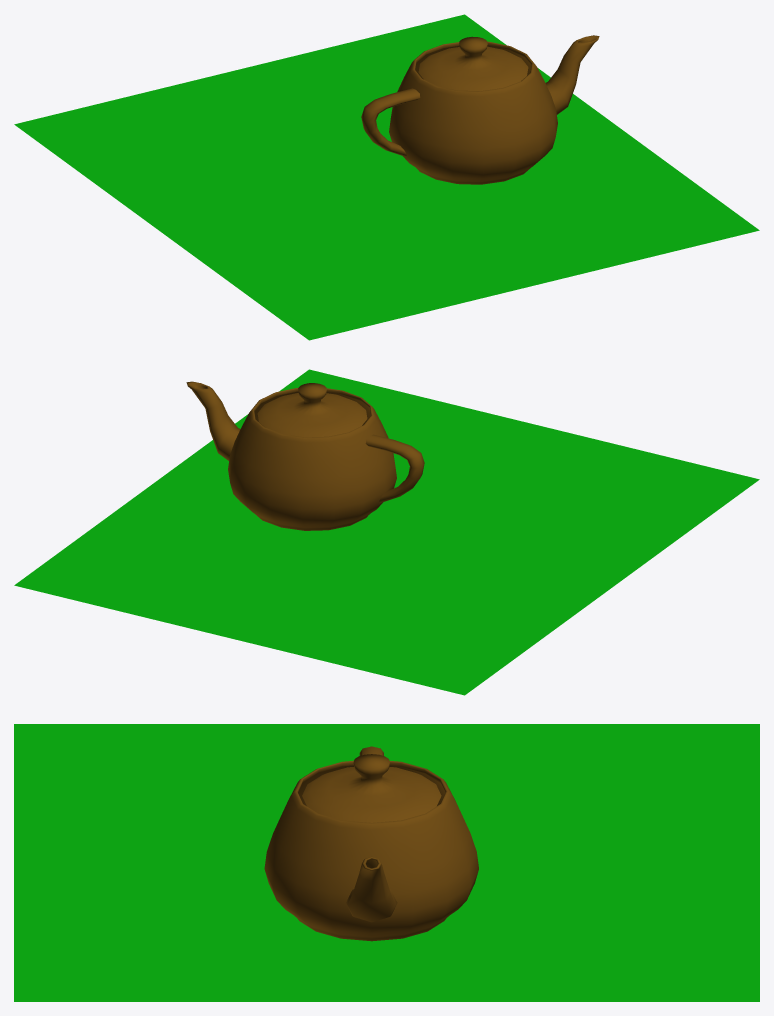
Rendered from multiOmni2.DAE.
3 renders of one model, top to bottom at view 1: azimuth 30°, elevation 25°; view 2: azimuth 150°, elevation 25°; view 3: azimuth 270°, elevation 25°, orthographic. The views are drawn at different scales.
Visible parts, largest first — view 1: Plane001, Teapot001; view 2: Plane001, Teapot001; view 3: Plane001, Teapot001.
Part boxes in pixels (bbox=[...]): Plane001: bbox=[14, 14, 759, 340]; Teapot001: bbox=[361, 35, 599, 184]; Plane001: bbox=[14, 369, 759, 695]; Teapot001: bbox=[186, 381, 424, 530]; Plane001: bbox=[14, 724, 759, 1001]; Teapot001: bbox=[264, 746, 478, 941].
Size of the model in its own units: 73.59 by 18.91 by 83.47.
